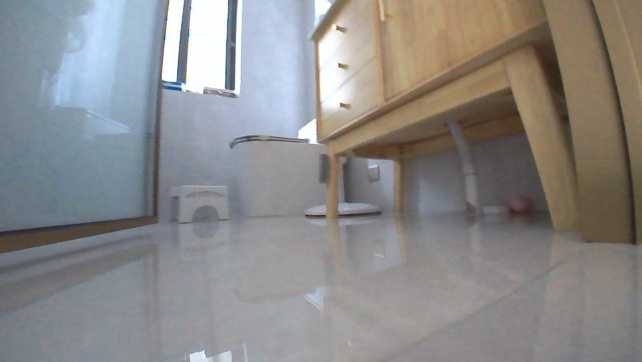toilet: (227, 117, 335, 219)
washstand: (305, 0, 580, 235)
